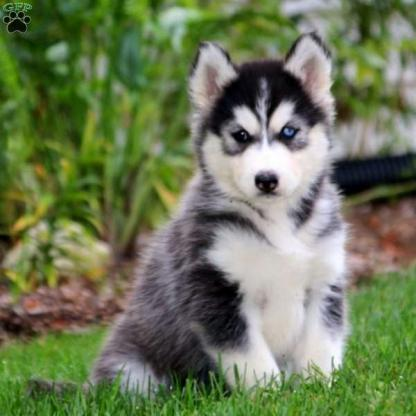dog: (32, 33, 347, 402)
